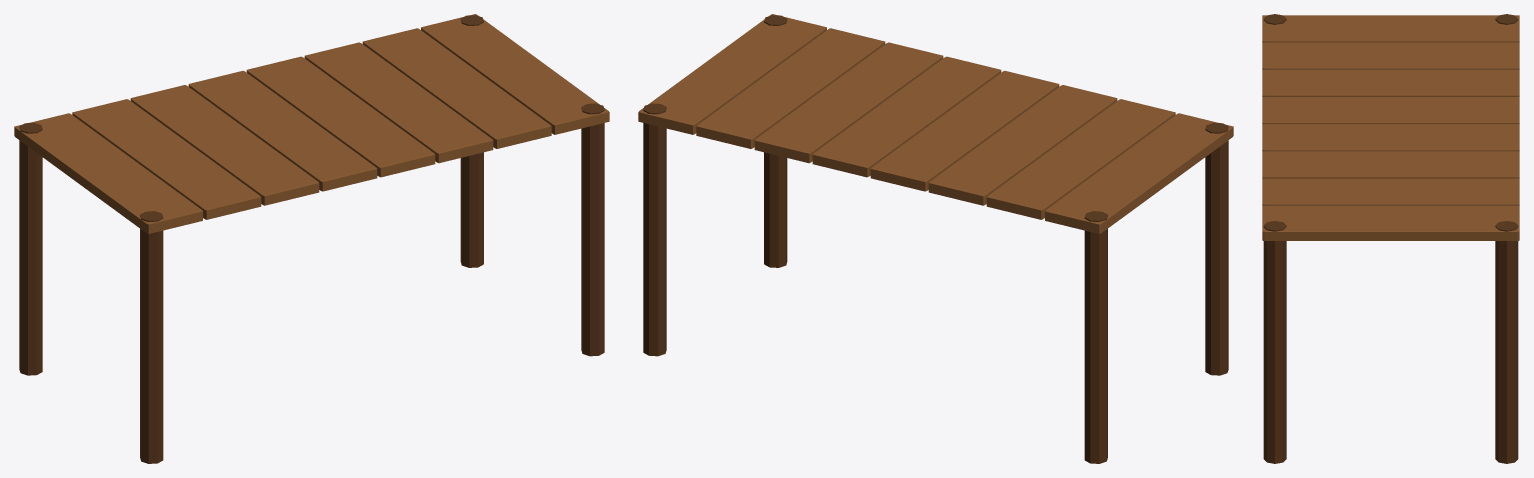
The model's file is pier.glb.
The picture shows the model from 3 angles, left to right: view 1: azimuth 30°, elevation 25°; view 2: azimuth 150°, elevation 25°; view 3: azimuth 270°, elevation 25°; orthographic projection. The views are drawn at different scales.
Visible parts, largest first — view 1: Cube; view 2: Cube; view 3: Cube.
Boxes of the visible parts, x1=… form: Cube: x1=14, y1=14, x2=609, y2=463; Cube: x1=638, y1=14, x2=1233, y2=463; Cube: x1=1262, y1=14, x2=1519, y2=463.
Bounding box in the file's own units: 3.98 × 2 × 2.
